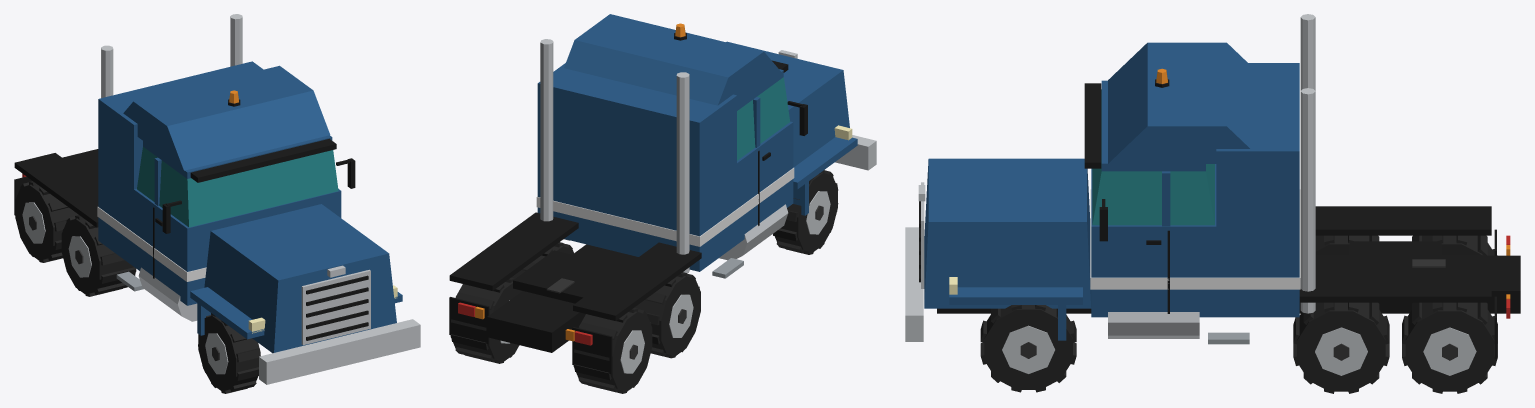
File: Vehicle_SemiTractor.fbx
3 views of the same model, side by side, from view 1: azimuth 30°, elevation 25°; view 2: azimuth 150°, elevation 25°; view 3: azimuth 270°, elevation 25° (orthographic). The views are drawn at different scales.
Visible parts, largest first — view 1: Vehicle_SemiTractor, Vehicle_SemiTractor_Wheel_R1R, Vehicle_SemiTractor_Wheel_FR, Vehicle_SemiTractor_Wheel_R2R; view 2: Vehicle_SemiTractor, Vehicle_SemiTractor_Wheel_R2R, Vehicle_SemiTractor_Wheel_R1R, Vehicle_SemiTractor_Wheel_FR, Vehicle_SemiTractor_Wheel_R2L, Vehicle_SemiTractor_Wheel_R1L; view 3: Vehicle_SemiTractor, Vehicle_SemiTractor_Wheel_R2L, Vehicle_SemiTractor_Wheel_R1L, Vehicle_SemiTractor_Wheel_FL, Vehicle_SemiTractor_Wheel_R2R, Vehicle_SemiTractor_Wheel_R1R.
Part boxes in pixels (x1,y1,x2,y2): Vehicle_SemiTractor: [14, 14, 420, 384]; Vehicle_SemiTractor_Wheel_R1R: [61, 215, 136, 296]; Vehicle_SemiTractor_Wheel_FR: [198, 313, 260, 393]; Vehicle_SemiTractor_Wheel_R2R: [15, 181, 78, 262]; Vehicle_SemiTractor: [449, 14, 876, 374]; Vehicle_SemiTractor_Wheel_R2R: [573, 307, 652, 393]; Vehicle_SemiTractor_Wheel_R1R: [634, 272, 700, 358]; Vehicle_SemiTractor_Wheel_FR: [773, 170, 838, 254]; Vehicle_SemiTractor_Wheel_R2L: [450, 277, 521, 363]; Vehicle_SemiTractor_Wheel_R1L: [511, 242, 573, 278]; Vehicle_SemiTractor: [905, 14, 1520, 359]; Vehicle_SemiTractor_Wheel_R2L: [1402, 302, 1497, 393]; Vehicle_SemiTractor_Wheel_R1L: [1293, 302, 1389, 393]; Vehicle_SemiTractor_Wheel_FL: [980, 305, 1076, 392]; Vehicle_SemiTractor_Wheel_R2R: [1412, 235, 1497, 255]; Vehicle_SemiTractor_Wheel_R1R: [1315, 235, 1379, 255].
Size of the model in its own units: 3.07 by 3.93 by 7.38.
